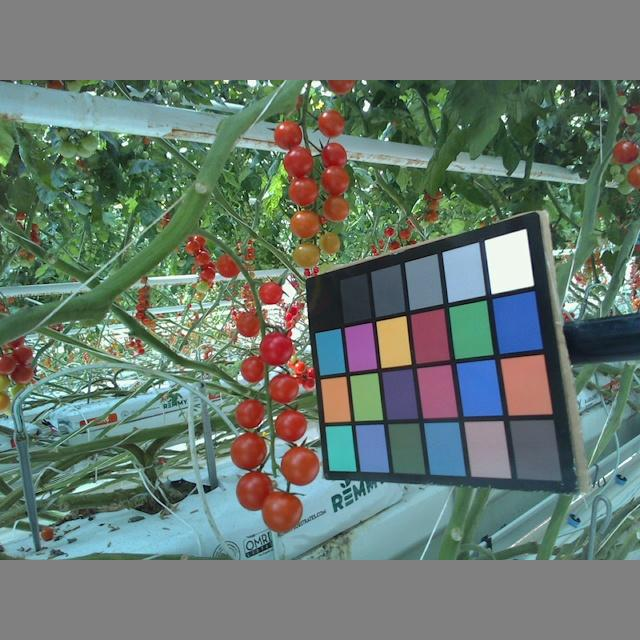pink: (291, 241, 325, 270), (290, 210, 321, 239), (320, 195, 354, 220), (316, 229, 341, 253)
red: (259, 491, 305, 532), (235, 469, 276, 514), (281, 449, 321, 486), (259, 330, 294, 367), (231, 434, 270, 467), (273, 409, 308, 443), (233, 395, 266, 430), (281, 147, 314, 178), (267, 374, 301, 404), (273, 119, 305, 150), (286, 176, 317, 206), (317, 143, 352, 168), (318, 166, 349, 194), (316, 110, 346, 137), (231, 311, 260, 337), (215, 252, 243, 278), (240, 356, 267, 382), (259, 279, 284, 306)
